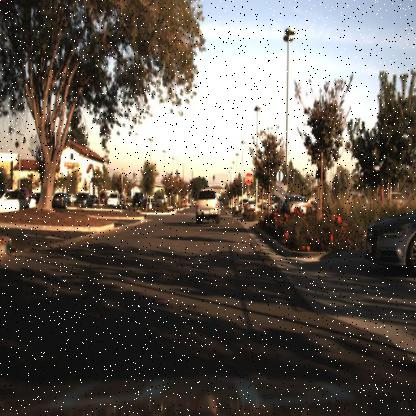car: (363, 204, 415, 275), (192, 186, 222, 228), (278, 191, 306, 217), (73, 187, 95, 211), (50, 189, 72, 210), (104, 192, 120, 212), (132, 187, 145, 207), (143, 191, 154, 211), (154, 192, 165, 210)
trafficLight-Green: (210, 173, 216, 185)
